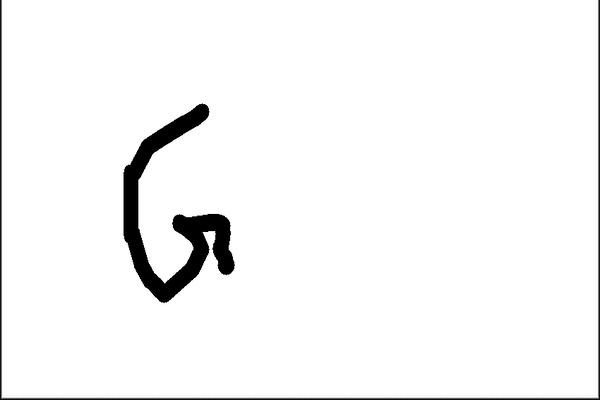G: (118, 98, 237, 302)
